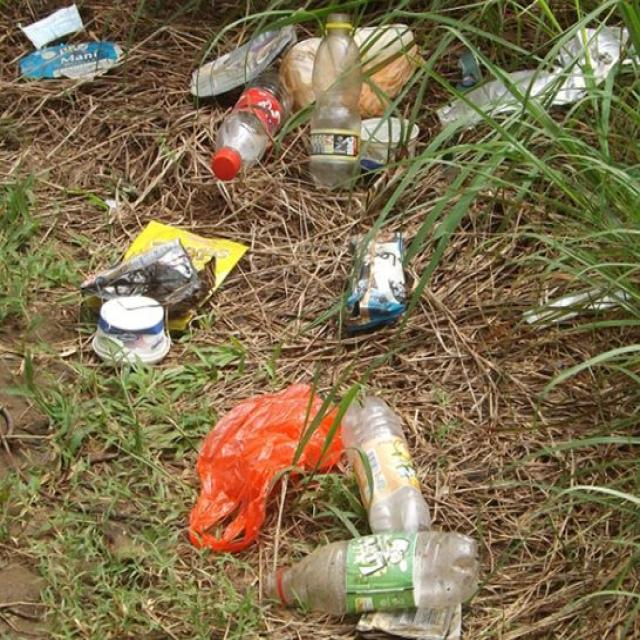dry: (428, 9, 622, 158), (258, 528, 498, 617), (309, 9, 373, 196), (340, 212, 414, 342), (80, 288, 184, 369), (211, 64, 276, 192), (16, 40, 132, 92)
